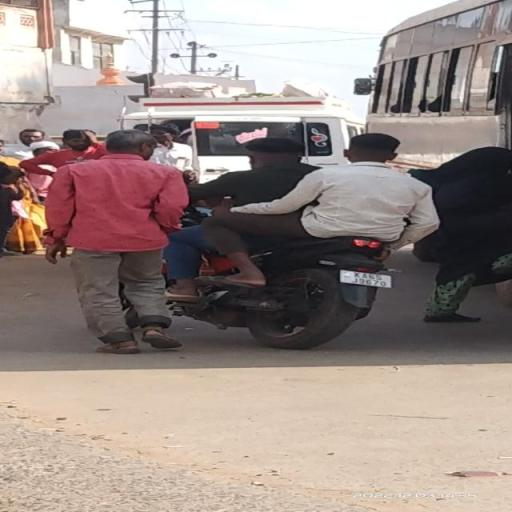bike: (162, 132, 444, 352)
numberplate: (339, 268, 398, 291)
withouthelmet: (246, 138, 305, 166), (351, 135, 395, 163)
